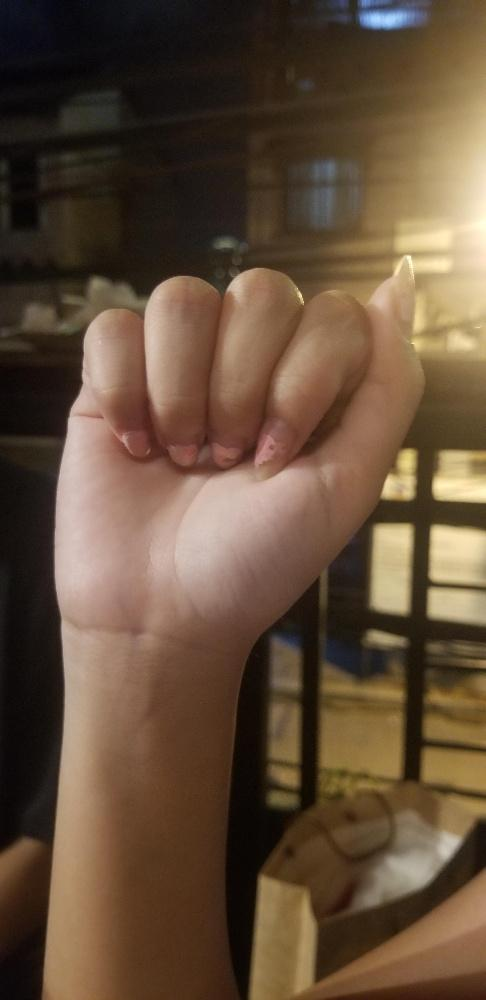a: (52, 253, 428, 642)
